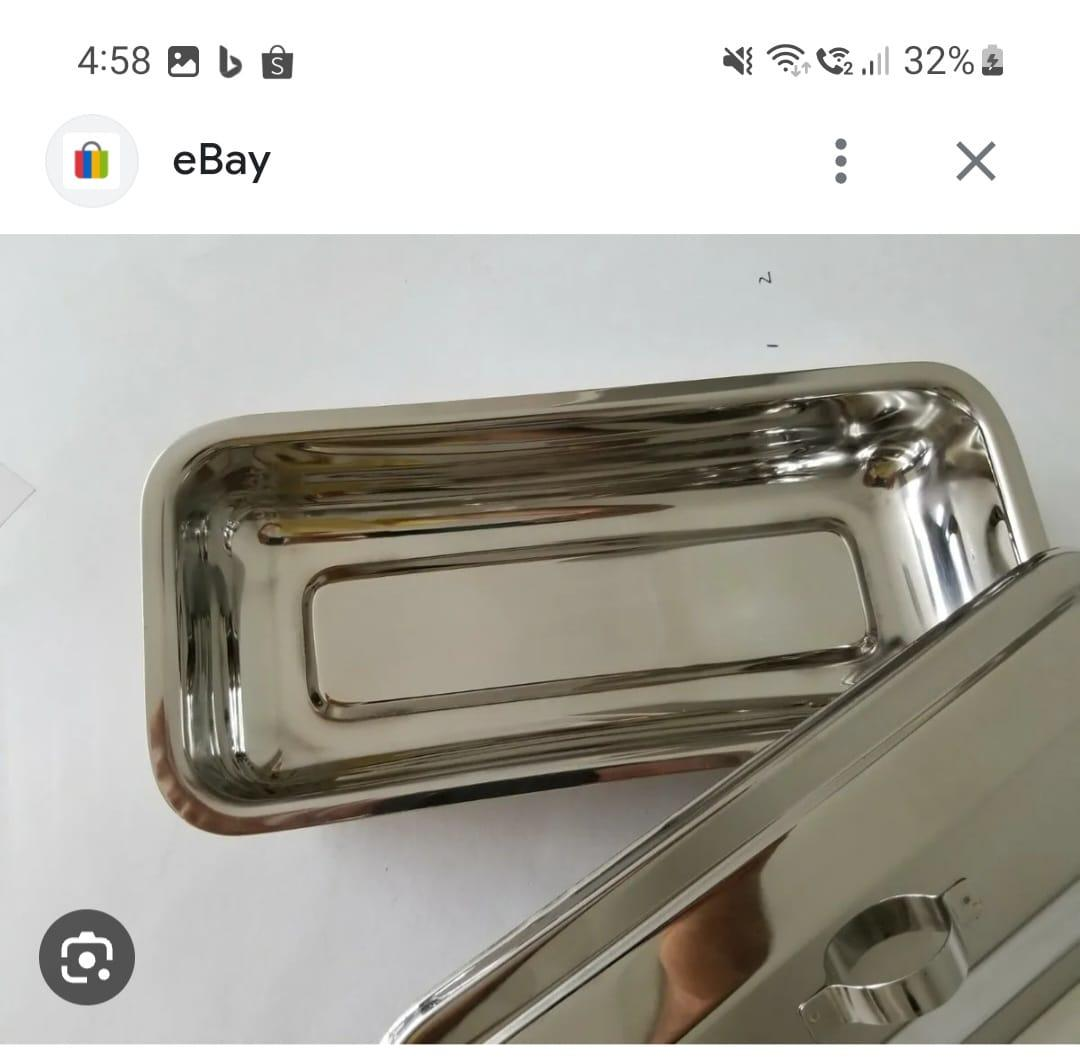Catheter Tray: (122, 360, 1055, 843)
